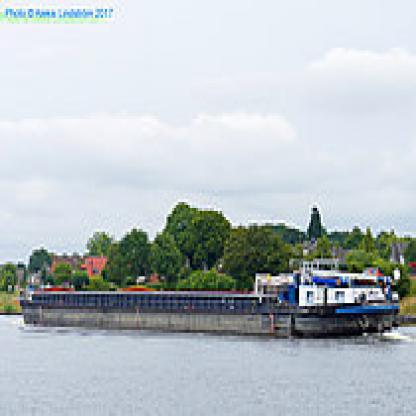Container Ship: (18, 257, 401, 338)
